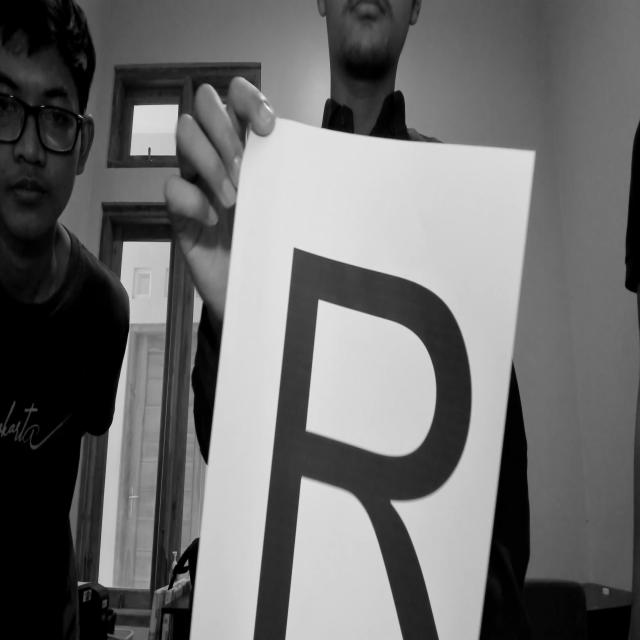r: (245, 243, 472, 640)
